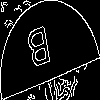B: (25, 25, 54, 78)
